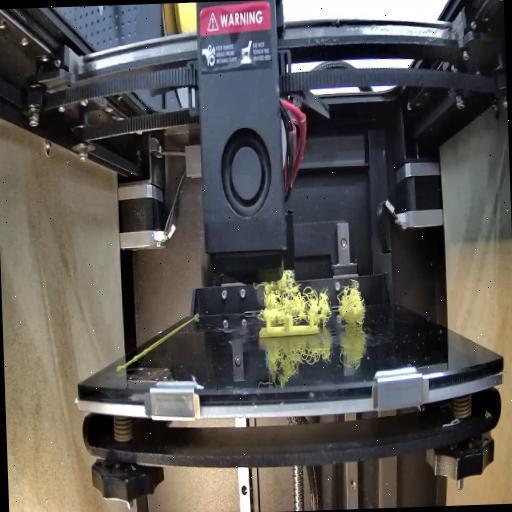spaghetti: (255, 272, 331, 324), (336, 276, 368, 329)
